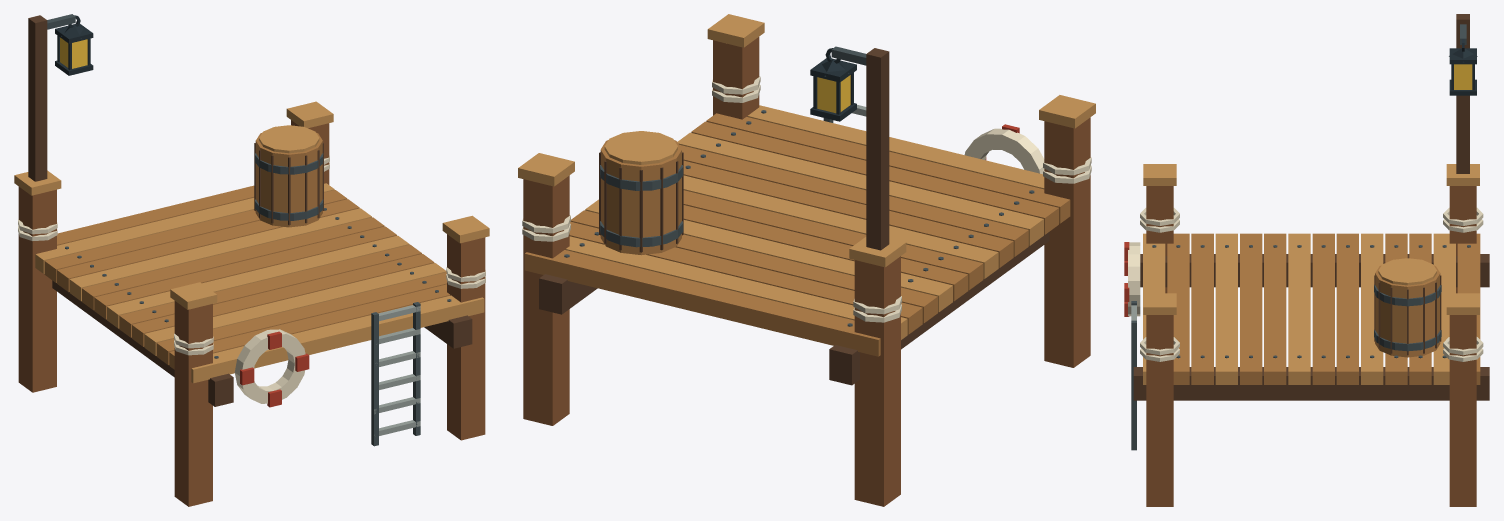
File: dock_kit.glb
3 renders of one model, left to right at view 1: azimuth 30°, elevation 25°; view 2: azimuth 150°, elevation 25°; view 3: azimuth 270°, elevation 25°, orthographic. The views are drawn at different scales.
Parts seen in each view (by area): view 1: dock_platform__wood2, dock_platform__wood3, dock_pile_1__wood, dock_pile_3__wood, dock_pile_2__wood, dock_barrel__wood2, dock_lamp__wood_dark, dock_platform__wood_dark, life_ring__cream, dock_ladder__steel, dock_ladder__metal, dock_barrel__wood3 (+10 smaller); view 2: dock_platform__wood2, dock_platform__wood3, dock_pile_3__wood, dock_pile_1__wood, dock_pile_4__wood, dock_barrel__wood2, dock_lamp__wood_dark, dock_platform__wood_dark, dock_pile_2__wood, dock_barrel__wood3, life_ring__cream, dock_barrel__metal (+11 smaller); view 3: dock_platform__wood2, dock_platform__wood3, dock_platform__wood_dark, dock_pile_4__wood, dock_pile_2__wood, dock_barrel__wood2, dock_lamp__wood_dark, dock_pile_1__wood, dock_pile_3__wood, dock_barrel__wood3, dock_barrel__metal, dock_barrel__wood_dark (+12 smaller).
Boxes of the visible parts, bbox=[...] form: dock_platform__wood2: bbox=[44, 185, 450, 369]; dock_platform__wood3: bbox=[35, 183, 484, 383]; dock_pile_1__wood: bbox=[174, 301, 212, 506]; dock_pile_3__wood: bbox=[18, 186, 56, 392]; dock_pile_2__wood: bbox=[447, 234, 485, 440]; dock_barrel__wood2: bbox=[255, 133, 322, 227]; dock_lamp__wood_dark: bbox=[28, 15, 47, 181]; dock_platform__wood_dark: bbox=[52, 280, 472, 406]; life_ring__cream: bbox=[234, 329, 305, 403]; dock_ladder__steel: bbox=[374, 305, 420, 435]; dock_ladder__metal: bbox=[371, 302, 420, 446]; dock_barrel__wood3: bbox=[259, 125, 319, 153]; dock_platform__wood2: bbox=[524, 113, 1070, 356]; dock_platform__wood3: bbox=[565, 105, 1044, 339]; dock_pile_3__wood: bbox=[854, 256, 900, 506]; dock_pile_1__wood: bbox=[1044, 117, 1090, 367]; dock_pile_4__wood: bbox=[523, 175, 569, 425]; dock_barrel__wood2: bbox=[600, 140, 681, 255]; dock_lamp__wood_dark: bbox=[866, 48, 889, 250]; dock_platform__wood_dark: bbox=[539, 232, 1049, 385]; dock_pile_2__wood: bbox=[713, 37, 759, 119]; dock_barrel__wood3: bbox=[604, 131, 677, 164]; life_ring__cream: bbox=[964, 128, 1044, 174]; dock_barrel__metal: bbox=[600, 165, 683, 247]; dock_platform__wood2: bbox=[1167, 233, 1480, 384]; dock_platform__wood3: bbox=[1143, 233, 1455, 384]; dock_platform__wood_dark: bbox=[1133, 254, 1489, 400]; dock_pile_4__wood: bbox=[1449, 315, 1476, 506]; dock_pile_2__wood: bbox=[1146, 315, 1173, 506]; dock_barrel__wood2: bbox=[1375, 265, 1440, 357]; dock_lamp__wood_dark: bbox=[1456, 14, 1469, 173]; dock_pile_1__wood: bbox=[1146, 186, 1173, 293]; dock_pile_3__wood: bbox=[1449, 186, 1476, 293]; dock_barrel__wood3: bbox=[1378, 258, 1436, 285]; dock_barrel__metal: bbox=[1374, 285, 1441, 351]; dock_barrel__wood_dark: bbox=[1374, 275, 1441, 355].
Bounding box in the file's own units: 2.81 × 3.18 × 2.97.
